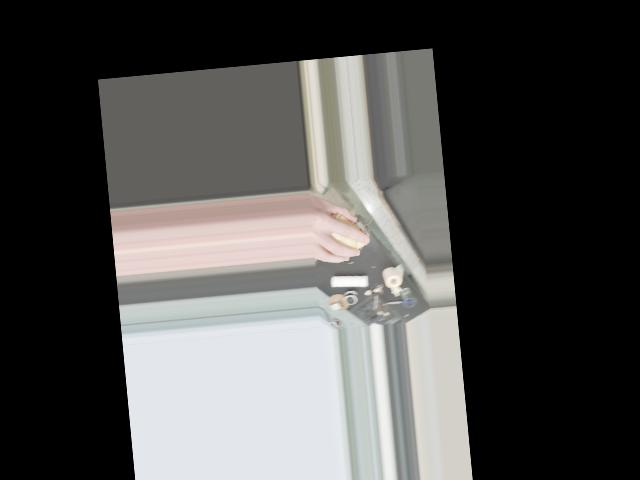onion: (321, 209, 369, 255)
